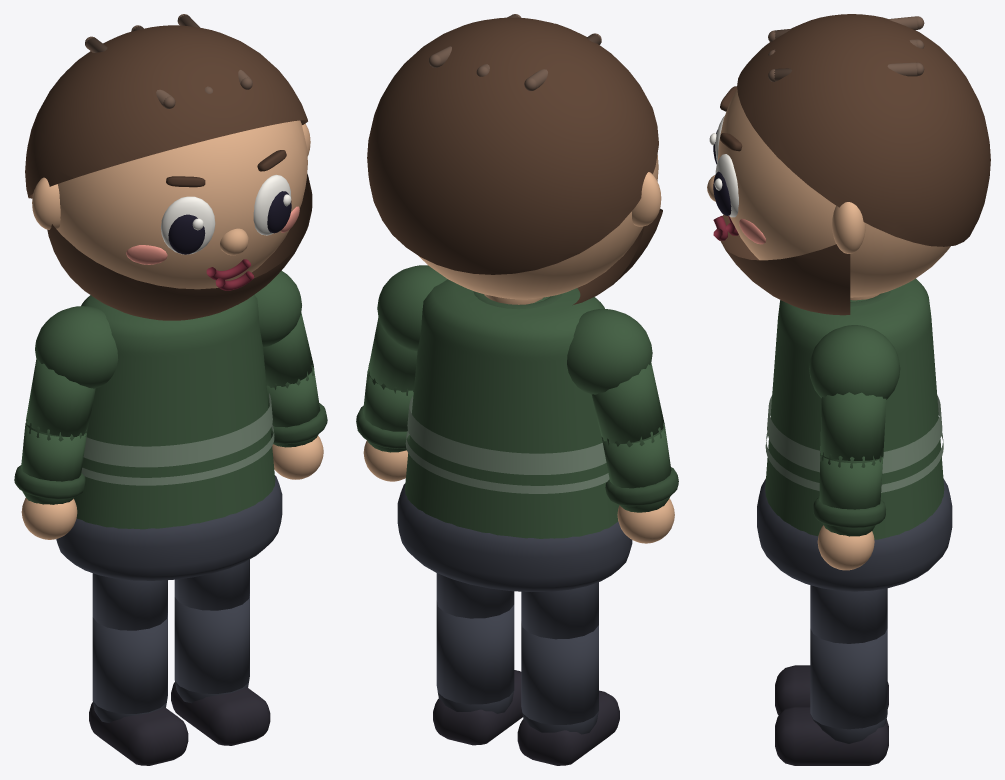
Rendered from ch_kolya.fbx.
3 renders of one model, left to right at view 1: azimuth 30°, elevation 25°; view 2: azimuth 150°, elevation 25°; view 3: azimuth 270°, elevation 25°, orthographic. The views are drawn at different scales.
Visible parts, largest first — view 1: ch_kolya; view 2: ch_kolya; view 3: ch_kolya.
Part boxes in pixels (box(x1,y1,x2,y2)): ch_kolya: box(14, 14, 327, 765); ch_kolya: box(356, 14, 678, 765); ch_kolya: box(707, 14, 990, 765).
Bounding box in the file's own units: 0.729 × 1.59 × 0.5773.
